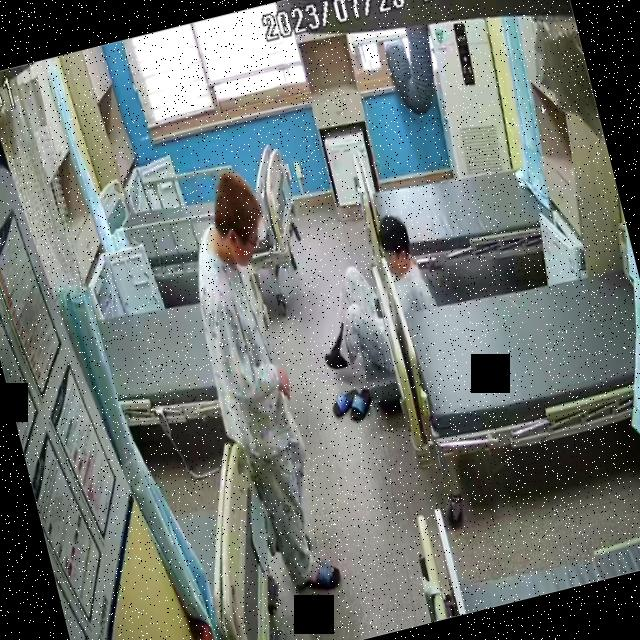bed: (364, 201, 640, 479), (345, 98, 563, 294), (90, 242, 290, 442), (114, 148, 306, 300)
fall: (296, 211, 450, 390)
patient: (162, 158, 354, 601), (296, 210, 451, 389)
stand: (162, 162, 352, 598)
